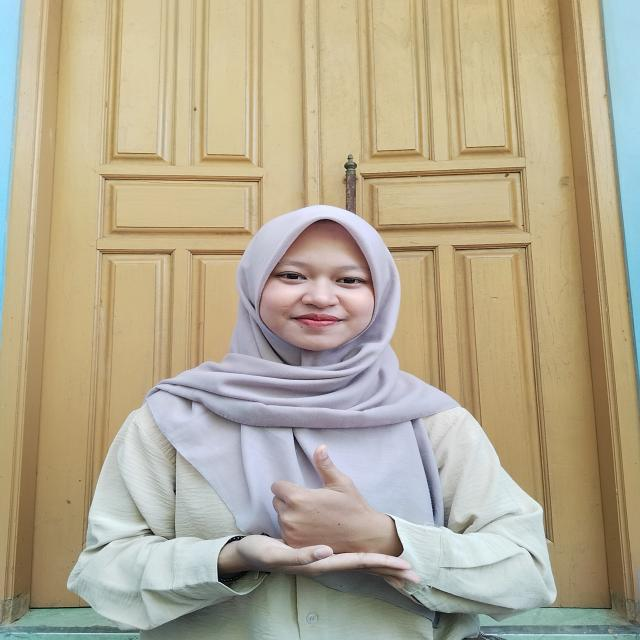cantik: (210, 432, 419, 621)
